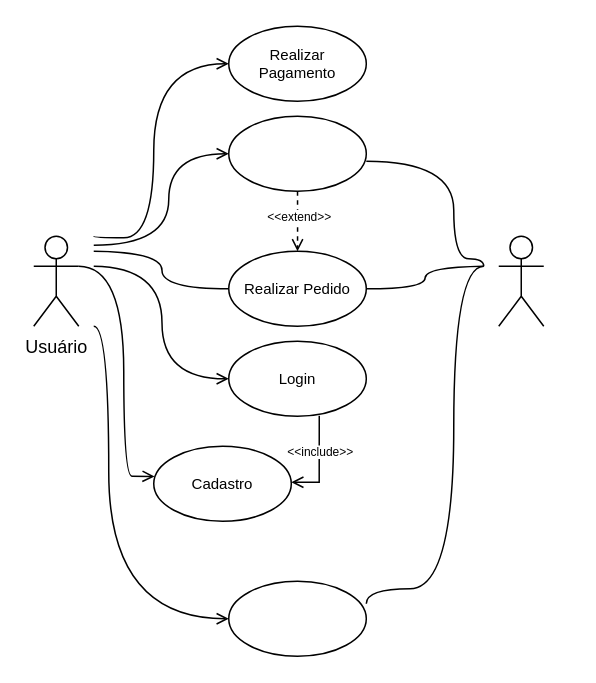
Some shapes in this 596 by 683 pixel diagram are drawn without their labels. The shapes that lost their labels are listed below. From the top down, each one's centre as x and y in pixels, then its label:
(x=296, y=153): Cancelar Pedido
(x=520, y=280): Restaurante
(x=296, y=618): Buscar CEP
